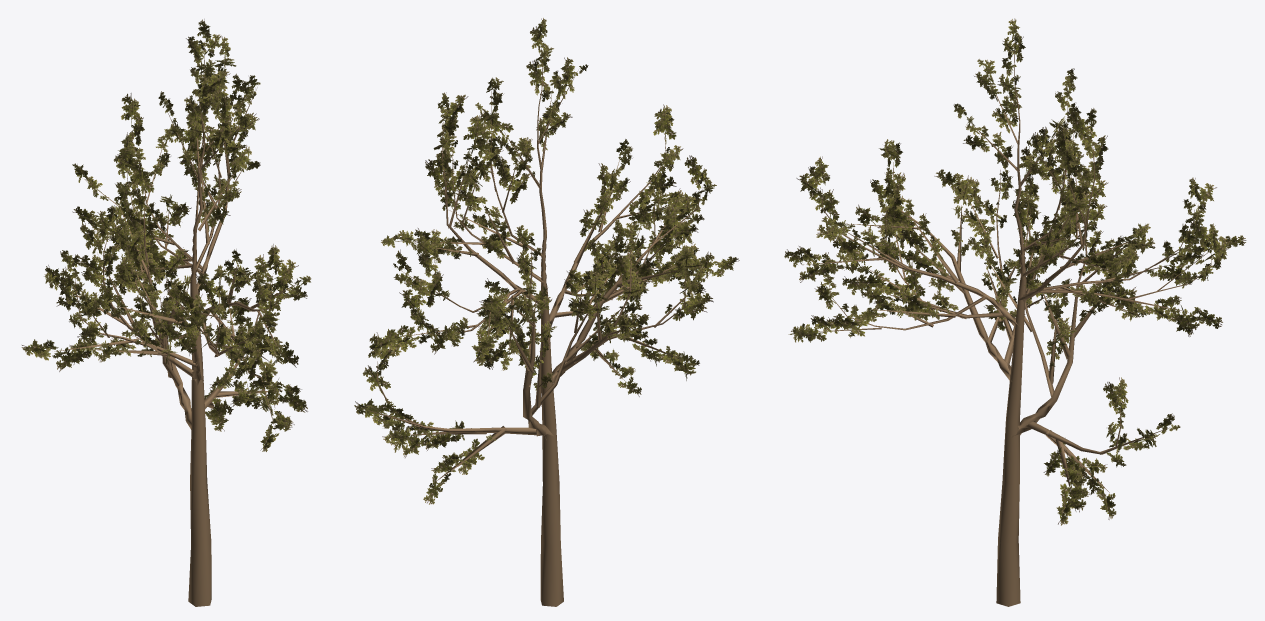
The model's file is blossom-lod1.glb.
3 renders of one model, left to right at view 1: azimuth 30°, elevation 25°; view 2: azimuth 150°, elevation 25°; view 3: azimuth 270°, elevation 25°, orthographic.
Parts seen in each view (by area): view 1: leaf cards, branches; view 2: leaf cards, branches; view 3: leaf cards, branches.
Part boxes in pixels (left/top/right/bottom): leaf cards: left=21, top=19, right=311, bottom=451; branches: left=54, top=42, right=299, bottom=606; leaf cards: left=354, top=18, right=739, bottom=504; branches: left=362, top=40, right=712, bottom=606; leaf cards: left=784, top=18, right=1246, bottom=525; branches: left=802, top=41, right=1211, bottom=606.
Bounding box in the file's own units: 2.84 × 5.04 × 3.69.
Materials: 2 (1 with a texture image).
